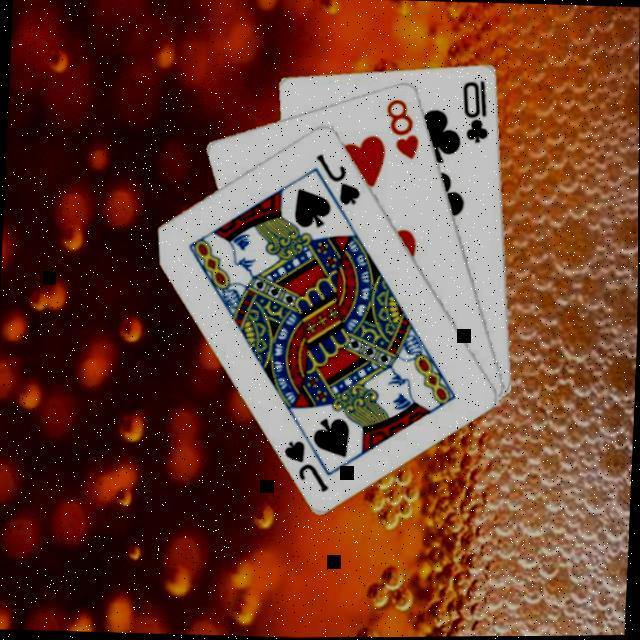10C: (459, 78, 494, 148)
8H: (382, 97, 424, 164)
JS: (280, 436, 334, 496), (312, 152, 366, 210)
